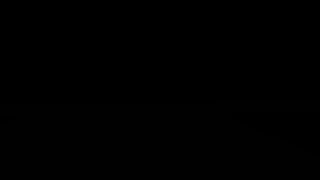turn_left: (232, 25, 263, 56)
